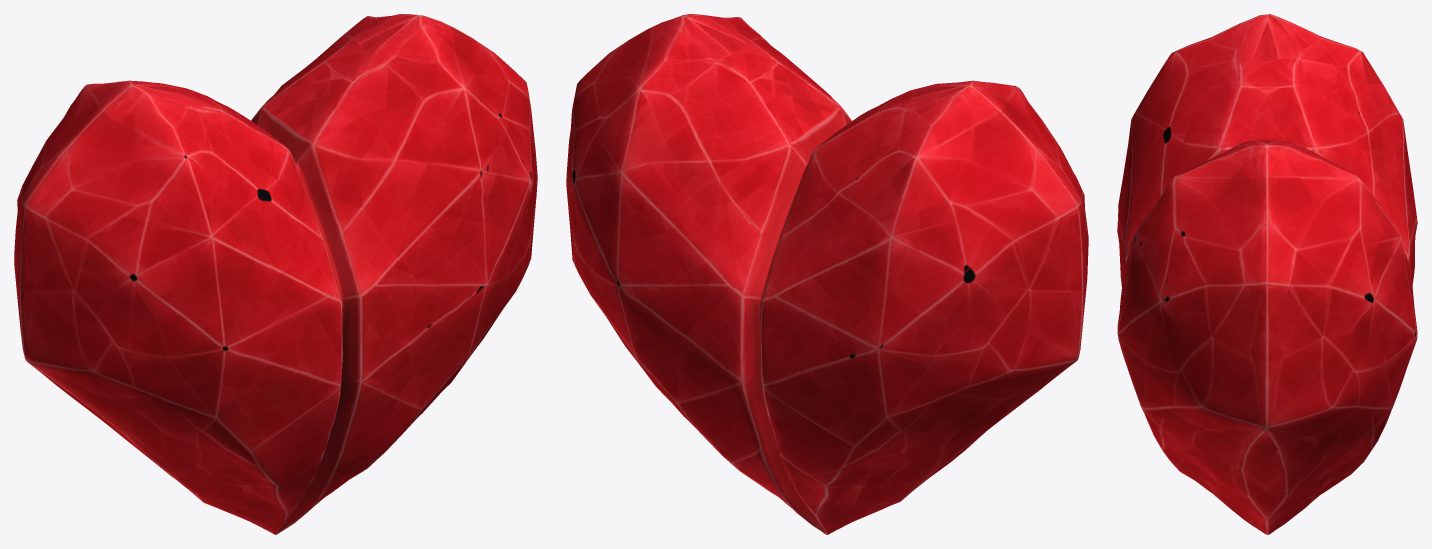
The model's file is bonus_heart_2_LOW_5k.fbx.
3 renders of one model, left to right at view 1: azimuth 30°, elevation 25°; view 2: azimuth 150°, elevation 25°; view 3: azimuth 270°, elevation 25°, orthographic. The views are drawn at different scales.
Parts seen in each view (by area): view 1: HIGH; view 2: HIGH; view 3: HIGH.
Boxes of the visible parts, <box> form: HIGH: <box>14,14,537,534</box>; HIGH: <box>566,14,1088,534</box>; HIGH: <box>1117,14,1417,534</box>.
Size of the model in its own units: 1.9 by 1.72 by 1.03.
Materials: 1 (1 with a texture image).
